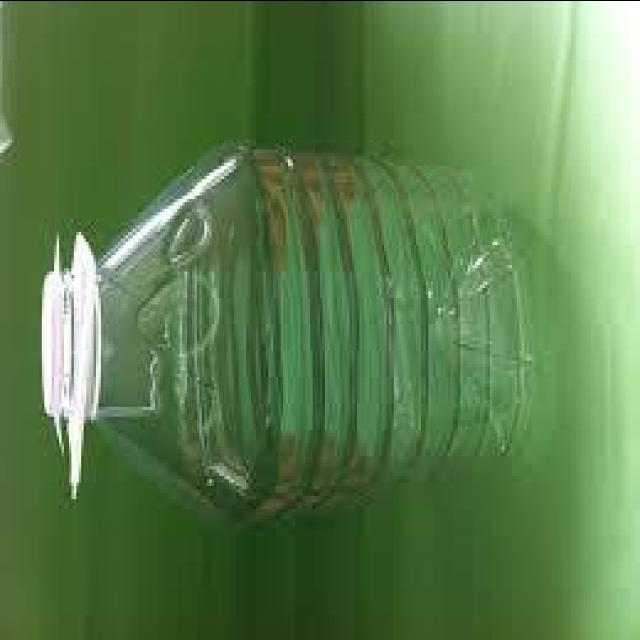-Recyclables - plastic bottle-: (39, 140, 548, 512)
